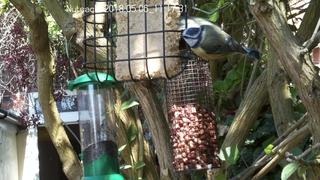blue tit: (179, 25, 260, 60)
